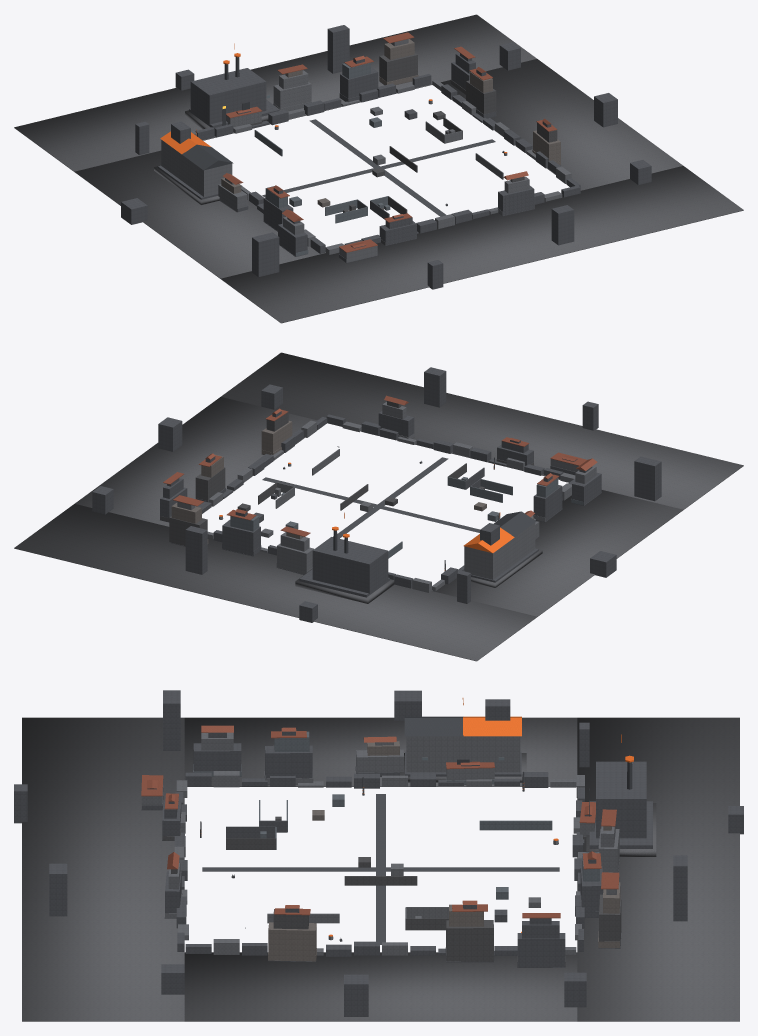
The model's file is koushou-lod2.glb.
The picture shows the model from 3 angles, top to bottom: view 1: azimuth 30°, elevation 25°; view 2: azimuth 150°, elevation 25°; view 3: azimuth 270°, elevation 25°; orthographic projection. The views are drawn at different scales.
Visible parts, largest first — view 1: HB_koushou_LOD2_terrain, HB_koushou_LOD2_wall_alt, HB_koushou_LOD2_wall, HB_koushou_LOD2_LANDMARK_0_wall_alt, HB_koushou_LOD2_wall_weathered, HB_koushou_LOD2_roof, HB_koushou_LOD2_wall_cool, HB_koushou_LOD2_wall_warm, HB_koushou_LOD2_LANDMARK_1_wall, HB_koushou_LOD2_road, HB_koushou_LOD2_LANDMARK_1_trim, HB_koushou_LOD2_LANDMARK_1_wall_alt; view 2: HB_koushou_LOD2_terrain, HB_koushou_LOD2_wall_alt, HB_koushou_LOD2_wall, HB_koushou_LOD2_LANDMARK_0_wall_alt, HB_koushou_LOD2_wall_weathered, HB_koushou_LOD2_LANDMARK_1_wall, HB_koushou_LOD2_wall_cool, HB_koushou_LOD2_roof, HB_koushou_LOD2_wall_warm, HB_koushou_LOD2_road, HB_koushou_LOD2_LANDMARK_0_terrain, HB_koushou_LOD2_LANDMARK_1_wall_alt (+2 smaller); view 3: HB_koushou_LOD2_terrain, HB_koushou_LOD2_wall_alt, HB_koushou_LOD2_wall, HB_koushou_LOD2_wall_weathered, HB_koushou_LOD2_LANDMARK_0_wall_alt, HB_koushou_LOD2_roof, HB_koushou_LOD2_LANDMARK_1_wall, HB_koushou_LOD2_wall_warm, HB_koushou_LOD2_road, HB_koushou_LOD2_wall_cool, HB_koushou_LOD2_LANDMARK_1_trim, HB_koushou_LOD2_LANDMARK_1_accent (+2 smaller).
Boxes of the visible parts, <box> form: HB_koushou_LOD2_terrain: <box>14,14,743,323</box>; HB_koushou_LOD2_wall_alt: <box>121,25,651,289</box>; HB_koushou_LOD2_wall: <box>191,39,571,262</box>; HB_koushou_LOD2_LANDMARK_0_wall_alt: <box>189,68,279,128</box>; HB_koushou_LOD2_wall_weathered: <box>250,52,557,245</box>; HB_koushou_LOD2_roof: <box>223,32,557,252</box>; HB_koushou_LOD2_wall_cool: <box>254,62,446,256</box>; HB_koushou_LOD2_wall_warm: <box>221,39,560,211</box>; HB_koushou_LOD2_LANDMARK_1_wall: <box>161,140,232,196</box>; HB_koushou_LOD2_road: <box>262,119,495,216</box>; HB_koushou_LOD2_LANDMARK_1_trim: <box>182,144,233,170</box>; HB_koushou_LOD2_LANDMARK_1_wall_alt: <box>157,121,218,199</box>; HB_koushou_LOD2_terrain: <box>14,352,743,661</box>; HB_koushou_LOD2_wall_alt: <box>92,367,661,622</box>; HB_koushou_LOD2_wall: <box>177,402,596,592</box>; HB_koushou_LOD2_LANDMARK_0_wall_alt: <box>299,537,389,597</box>; HB_koushou_LOD2_wall_weathered: <box>160,401,533,546</box>; HB_koushou_LOD2_LANDMARK_1_wall: <box>464,523,535,579</box>; HB_koushou_LOD2_wall_cool: <box>230,476,583,558</box>; HB_koushou_LOD2_roof: <box>163,395,597,536</box>; HB_koushou_LOD2_wall_warm: <box>171,421,533,543</box>; HB_koushou_LOD2_road: <box>262,457,479,538</box>; HB_koushou_LOD2_LANDMARK_0_terrain: <box>295,569,394,603</box>; HB_koushou_LOD2_LANDMARK_1_wall_alt: <box>463,523,538,582</box>; HB_koushou_LOD2_terrain: <box>22,717,739,1021</box>; HB_koushou_LOD2_wall_alt: <box>14,690,743,1016</box>; HB_koushou_LOD2_wall: <box>141,732,619,955</box>; HB_koushou_LOD2_wall_weathered: <box>162,816,621,966</box>; HB_koushou_LOD2_LANDMARK_0_wall_alt: <box>589,761,652,848</box>; HB_koushou_LOD2_roof: <box>141,725,619,918</box>; HB_koushou_LOD2_LANDMARK_1_wall: <box>406,736,520,772</box>; HB_koushou_LOD2_wall_warm: <box>268,741,620,961</box>; HB_koushou_LOD2_road: <box>202,794,559,944</box>; HB_koushou_LOD2_wall_cool: <box>193,731,599,899</box>; HB_koushou_LOD2_LANDMARK_1_trim: <box>404,716,469,764</box>; HB_koushou_LOD2_LANDMARK_1_accent: <box>462,698,521,736</box>.
Size of the model in its own units: 588 by 87.92 by 584.
12 materials, 10 textured.
